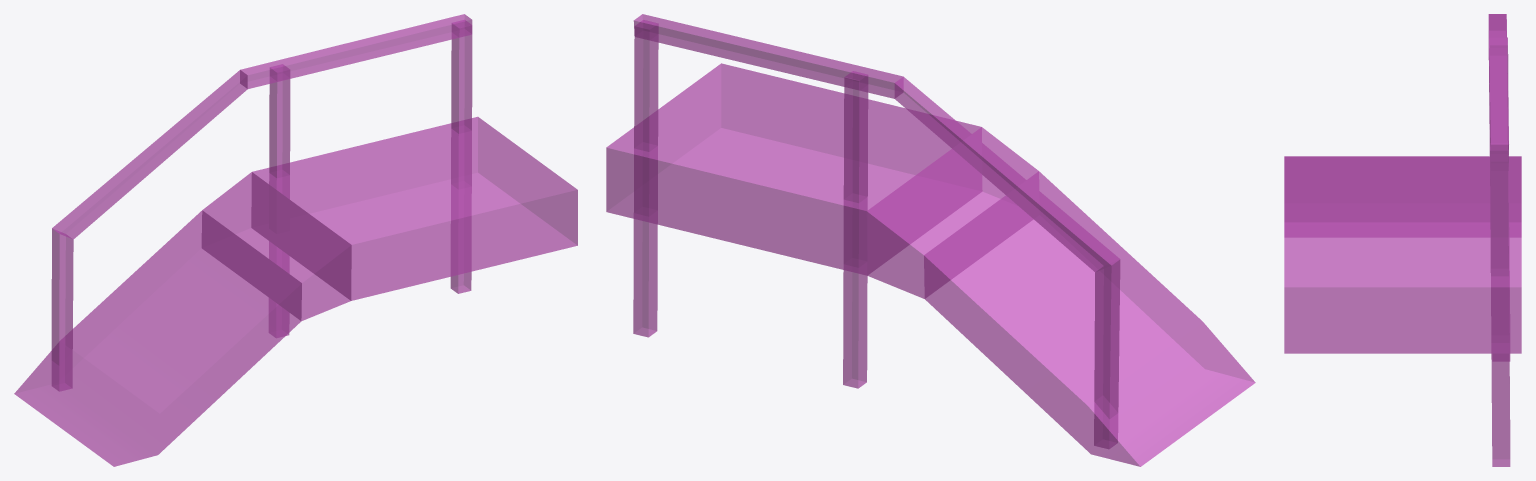
File: SM_Bld_HeliPad_Stairs_01_Collision.fbx
The picture shows the model from 3 angles, left to right: view 1: azimuth 30°, elevation 25°; view 2: azimuth 150°, elevation 25°; view 3: azimuth 270°, elevation 25°; orthographic projection. The views are drawn at different scales.
Parts seen in each view (by area): view 1: SM_Bld_HeliPad_Stairs_01_Collision; view 2: SM_Bld_HeliPad_Stairs_01_Collision; view 3: SM_Bld_HeliPad_Stairs_01_Collision.
Boxes of the visible parts, x1,y1,x2,y2 form: SM_Bld_HeliPad_Stairs_01_Collision: (14,14,577,466); SM_Bld_HeliPad_Stairs_01_Collision: (606,14,1255,466); SM_Bld_HeliPad_Stairs_01_Collision: (1284,14,1521,466).
Size of the model in its own units: 433 by 245 by 161.
